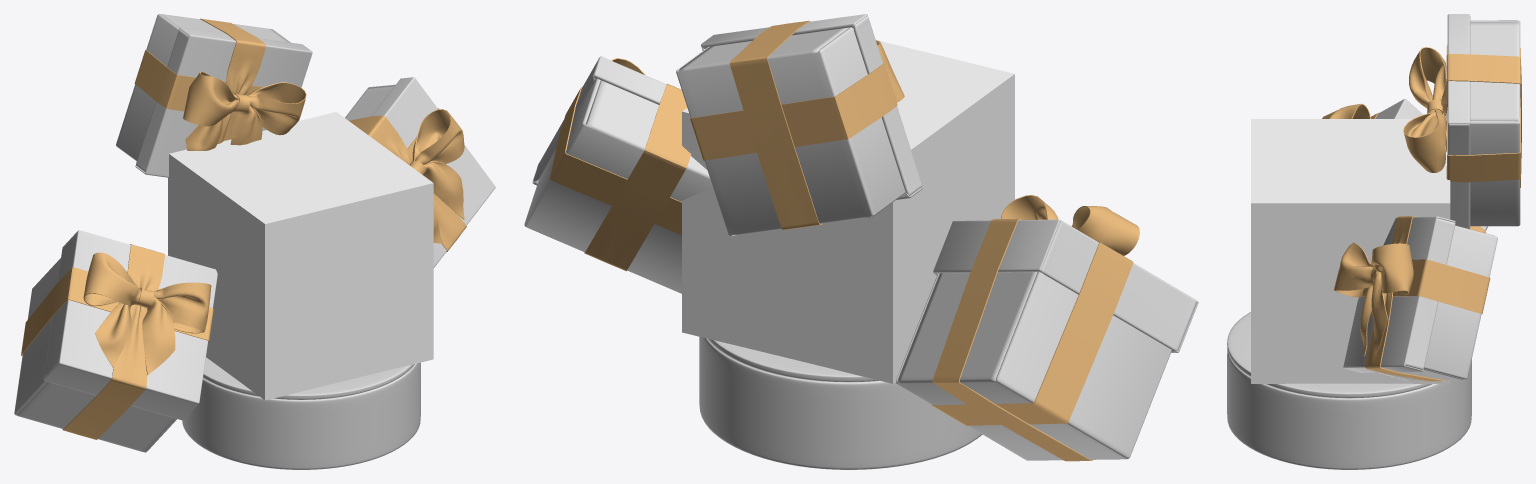
Rendered from podium_gifts.glb.
3 renders of one model, left to right at view 1: azimuth 30°, elevation 25°; view 2: azimuth 150°, elevation 25°; view 3: azimuth 270°, elevation 25°, orthographic. The views are drawn at different scales.
Visible parts, largest first — view 1: placeholder, box_15x15x15, box_15x15x7, Cylinder006, box_15x15x016; view 2: box_15x15x15, placeholder, box_15x15x7, box_15x15x016, Cylinder006; view 3: placeholder, box_15x15x016, Cylinder006, box_15x15x7, box_15x15x15.
Boxes of the visible parts, box(x1,y1,x2,y2) form: placeholder: box(168, 112, 433, 400); box_15x15x15: box(14, 230, 217, 452); box_15x15x7: box(116, 14, 312, 177); Cylinder006: box(182, 357, 420, 469); box_15x15x016: box(345, 77, 495, 267); box_15x15x15: box(896, 195, 1198, 461); placeholder: box(682, 40, 1014, 383); box_15x15x7: box(676, 14, 922, 235); box_15x15x016: box(524, 56, 712, 293); Cylinder006: box(699, 336, 982, 469); placeholder: box(1251, 119, 1450, 383); box_15x15x016: box(1334, 216, 1497, 381); Cylinder006: box(1227, 312, 1471, 469); box_15x15x7: box(1403, 14, 1521, 228); box_15x15x15: box(1322, 98, 1487, 233).
Size of the model in its own units: 2.72 by 1.98 by 1.41.
4 materials, 1 textured.
